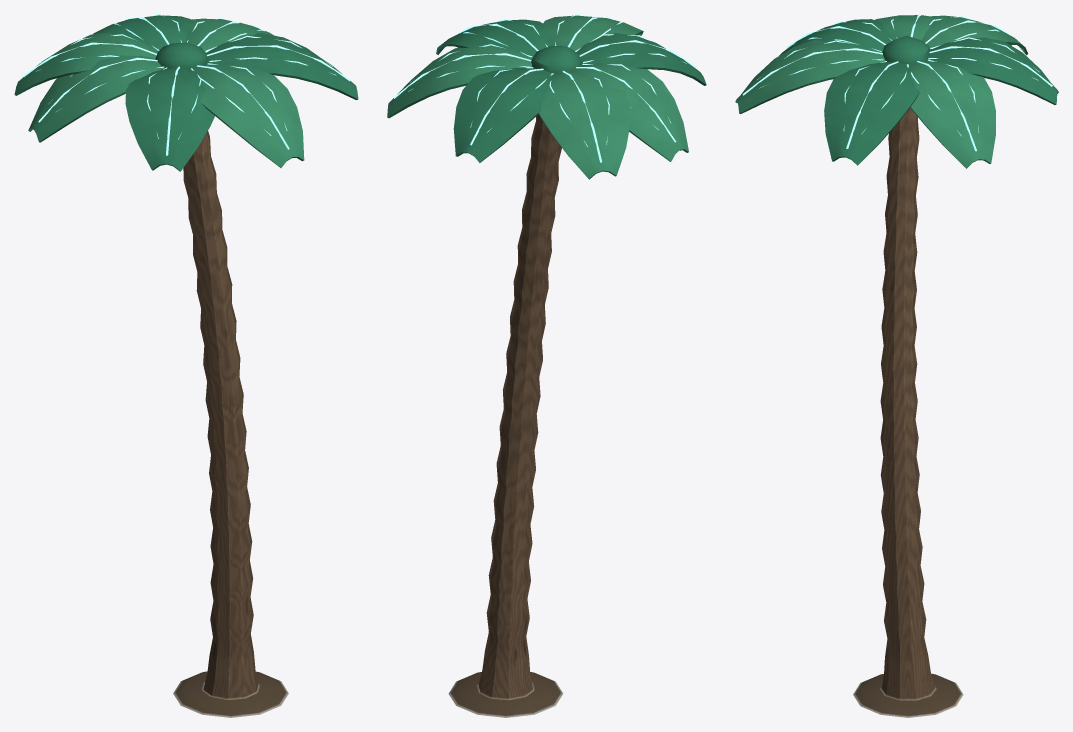
The model's file is arbol_palmera_alien.fbx.
The picture shows the model from 3 angles, left to right: view 1: azimuth 30°, elevation 25°; view 2: azimuth 150°, elevation 25°; view 3: azimuth 270°, elevation 25°; orthographic projection. The views are drawn at different scales.
Parts seen in each view (by area): view 1: arbol_palmera_alien, arbol_palmera_alien_nervios_neon; view 2: arbol_palmera_alien, arbol_palmera_alien_nervios_neon; view 3: arbol_palmera_alien, arbol_palmera_alien_nervios_neon.
Part boxes in pixels (bbox=[...]): arbol_palmera_alien: bbox=[14, 15, 358, 717]; arbol_palmera_alien_nervios_neon: bbox=[23, 14, 350, 155]; arbol_palmera_alien: bbox=[387, 15, 706, 717]; arbol_palmera_alien_nervios_neon: bbox=[393, 14, 695, 162]; arbol_palmera_alien: bbox=[735, 15, 1058, 717]; arbol_palmera_alien_nervios_neon: bbox=[742, 14, 1052, 151].
Bounding box in the file's own units: 5.12 × 11.35 × 5.27.
2 materials, 1 textured.
